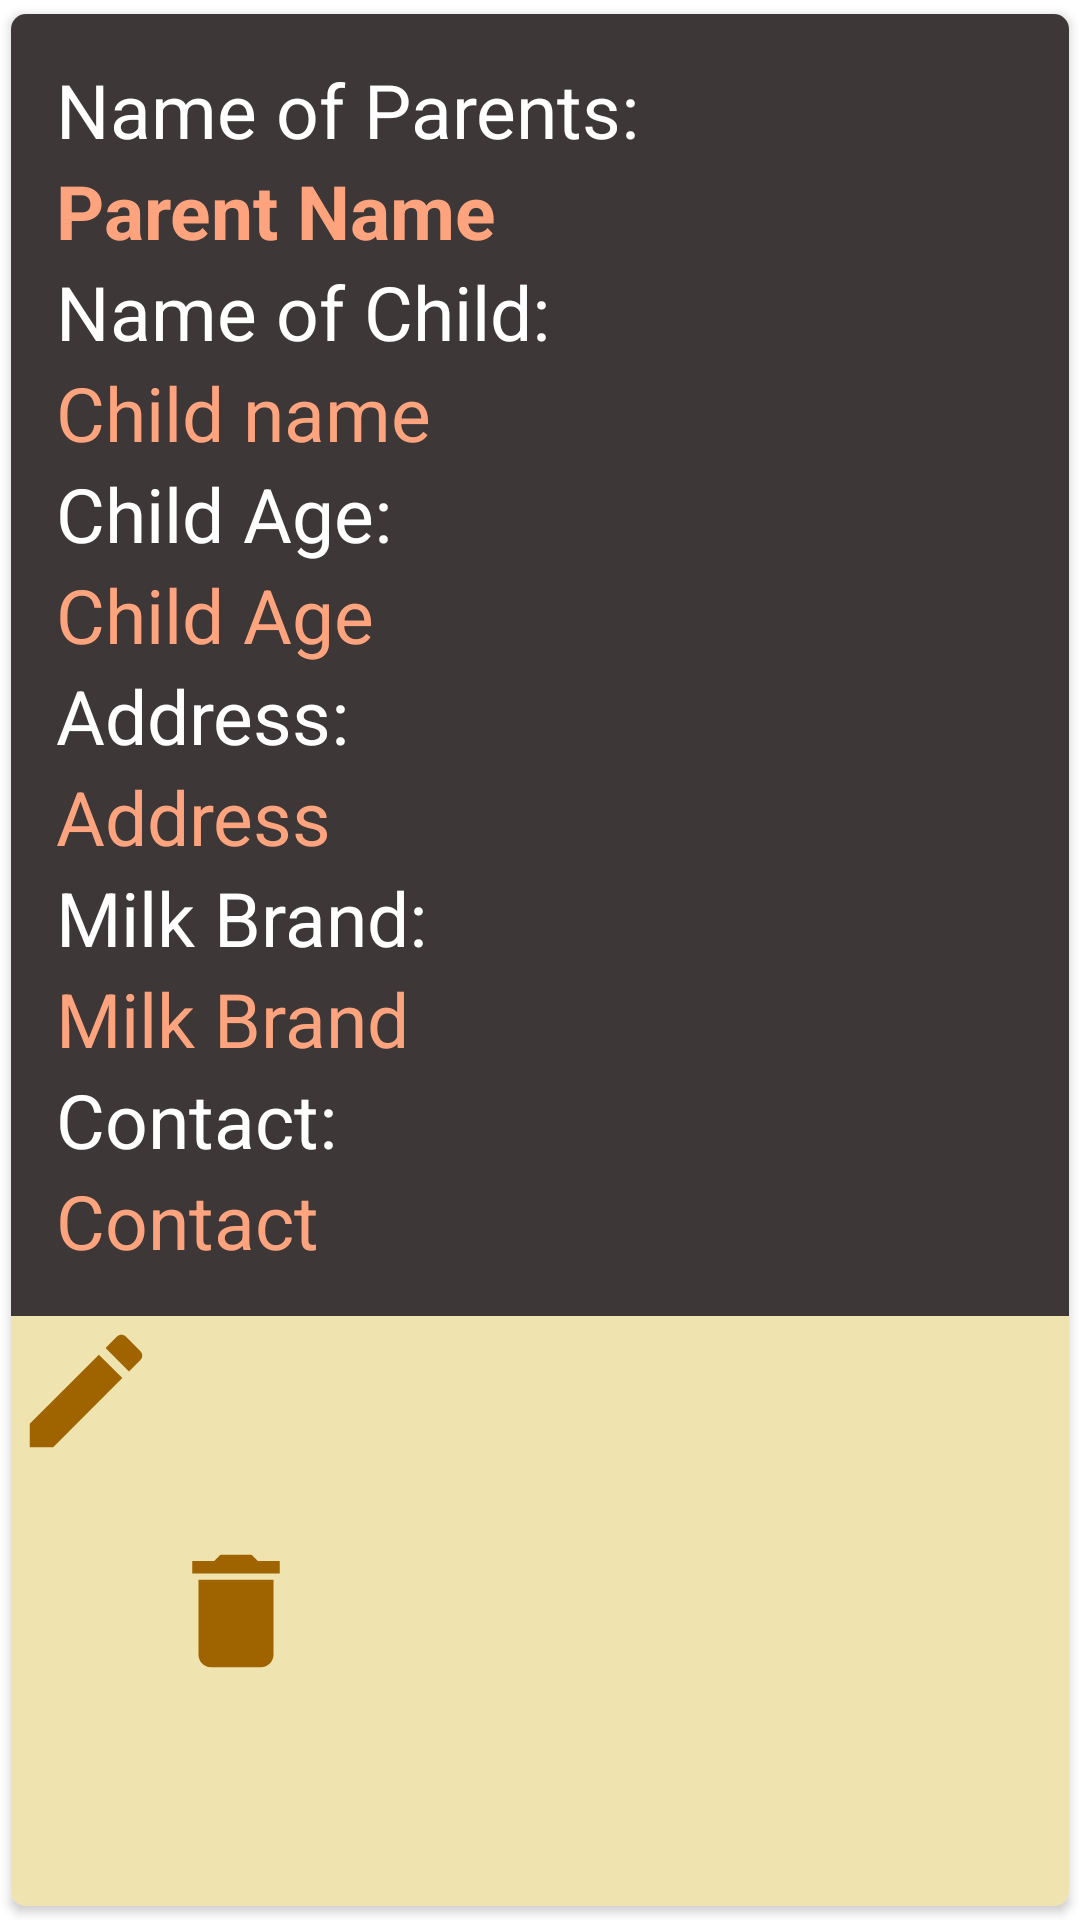

Screen size 1080x1920. Icon name, then its box in pixels as (x1, y1, x2, y2):
delete: (192, 1554, 280, 1668)
